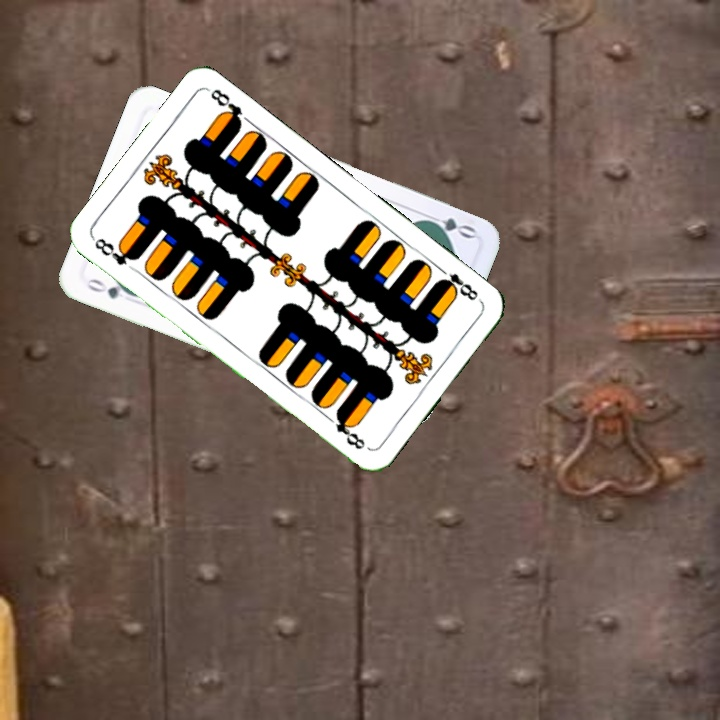E8: (434, 263, 484, 305), (89, 234, 141, 268)
GO: (418, 209, 478, 242), (82, 274, 140, 302)
